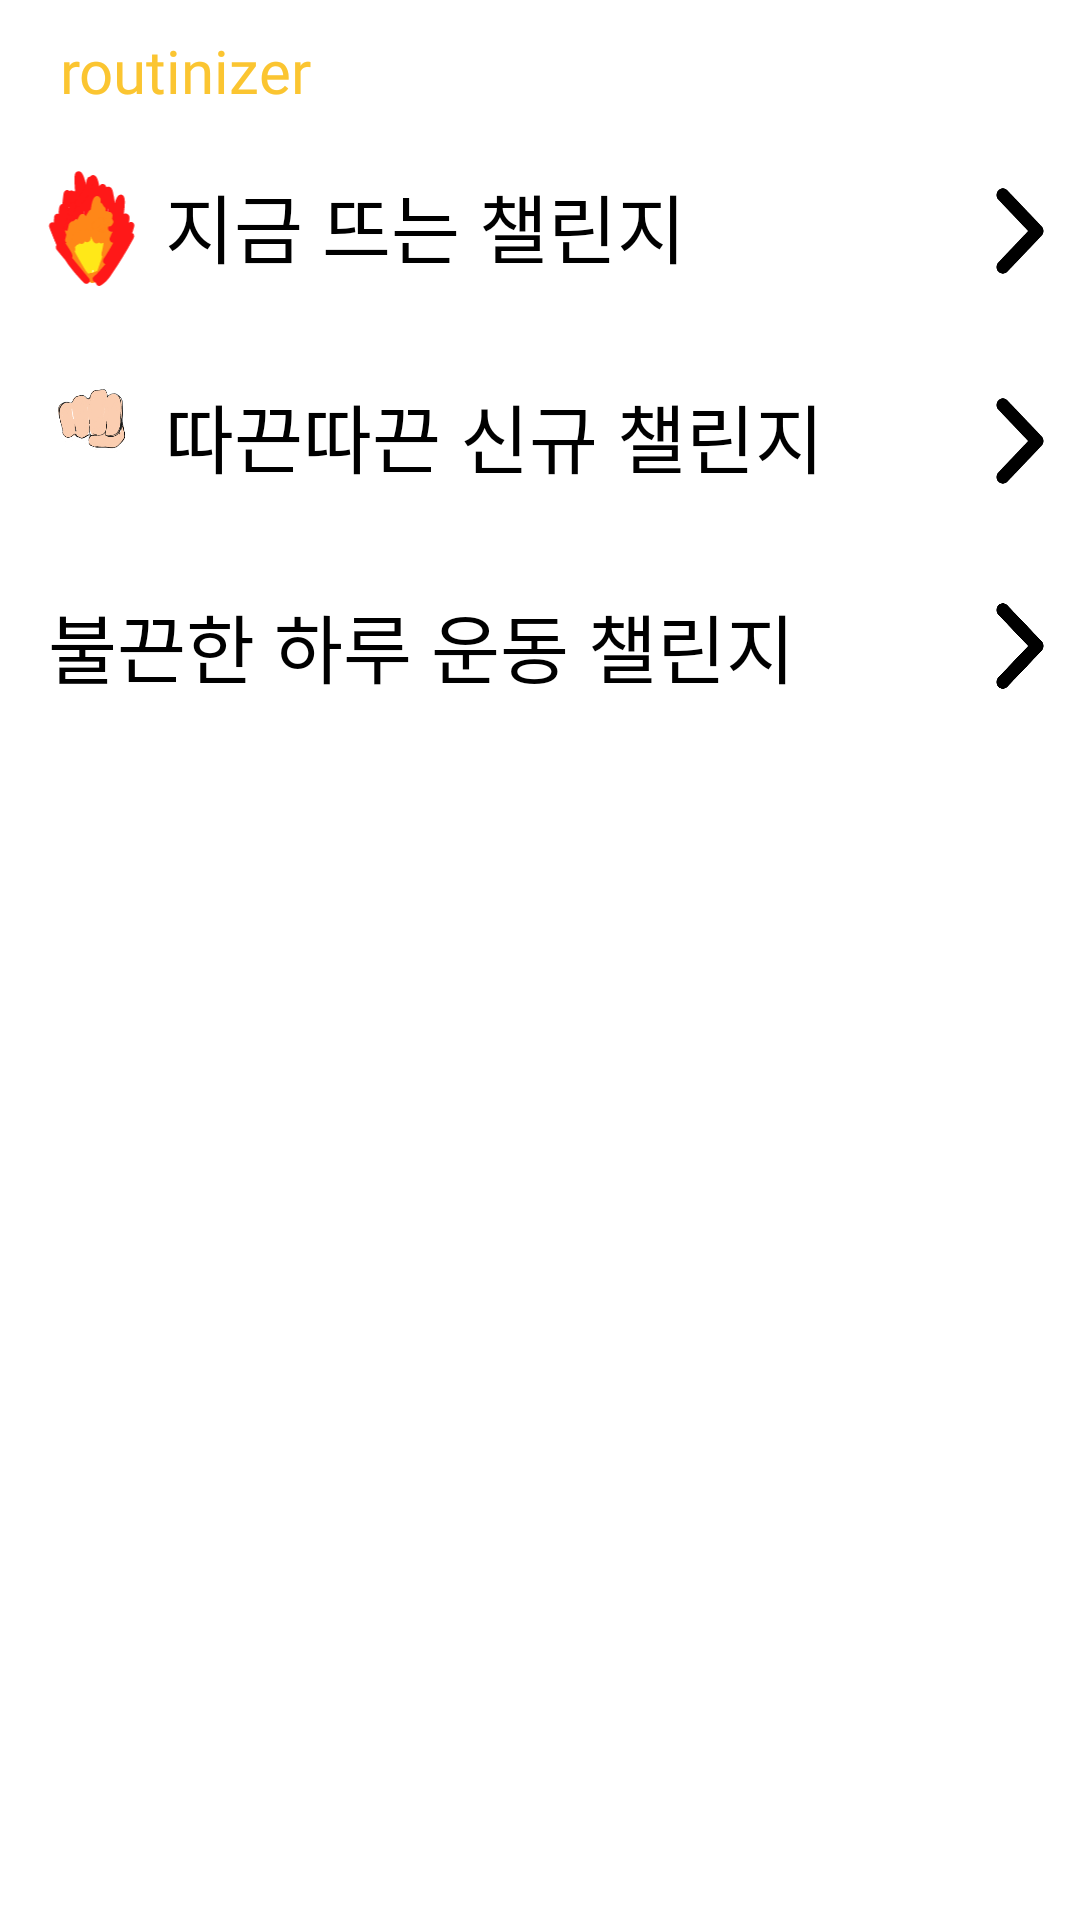

Screen size 1080*1920. Icon name, then its box in pixels as (x1, y1, x2, y2):
detail: (996, 188, 1044, 274), (996, 398, 1044, 484), (996, 603, 1044, 689)
fire: (48, 171, 135, 286)
punch: (58, 389, 125, 448)
